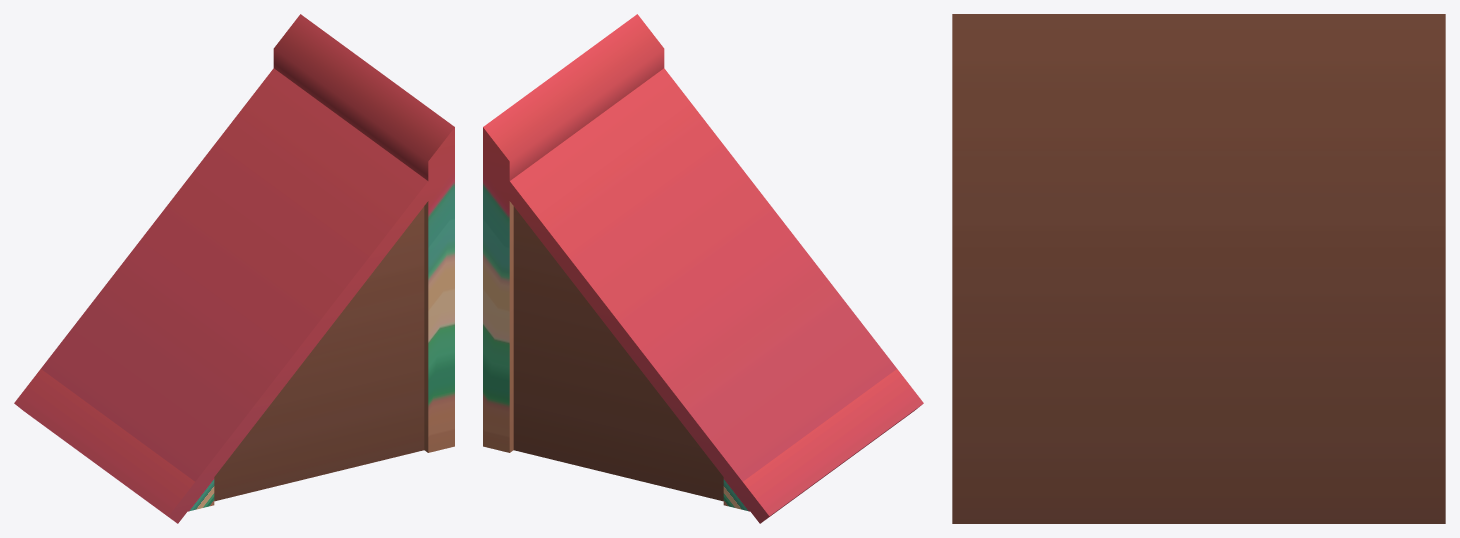
Rendered from roof-high.glb.
3 views of the same model, side by side, from view 1: azimuth 30°, elevation 25°; view 2: azimuth 150°, elevation 25°; view 3: azimuth 270°, elevation 25° (orthographic). The views are drawn at different scales.
Visible parts, largest first — view 1: roof-high; view 2: roof-high; view 3: roof-high.
Part boxes in pixels (x1,y1,x2,y2): roof-high: (14, 14, 454, 523); roof-high: (483, 14, 923, 523); roof-high: (952, 14, 1445, 523).
Bounding box in the file's own units: 1.07 × 1.18 × 1.
1 material, 1 textured.
